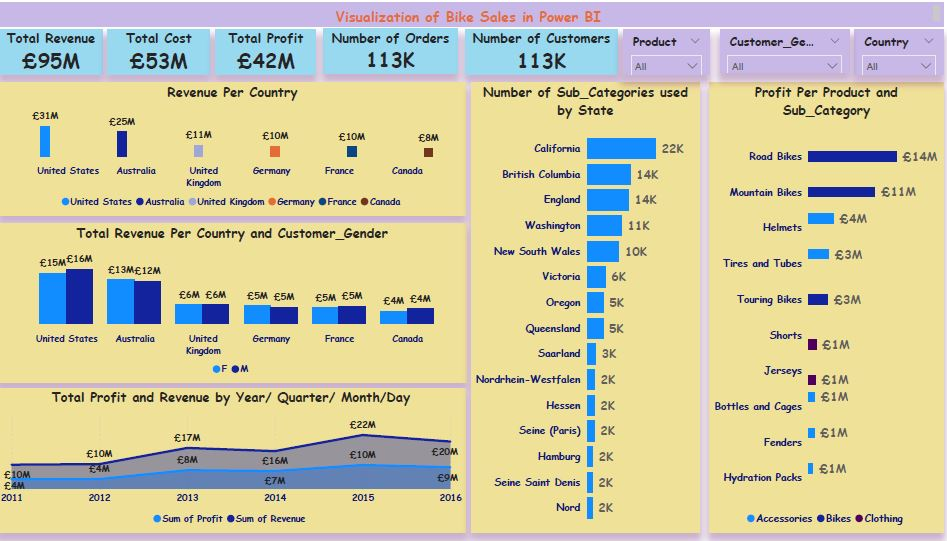

Layout of this report page (visuals, bound fields, positions):
{"tool":"powerbi","page":{"name":"Dashboard","canvas":[1280,720],"ordinal":0},"visuals":[{"type":"card","title":"Total  Revenue","fields":{"Values":["Sum(Sales-230810-192758.Revenue)"]},"box":[14.4,36,136.8,60.5],"z":0},{"type":"card","title":"Number of Orders","fields":{"Values":["CountNonNull(Sales-230810-192758.Order_Quantity)"]},"box":[445,34.6,178.6,60.5],"z":1000},{"type":"card","title":"Number of Customers","fields":{"Values":["CountNonNull(Sales-230810-192758.Customer_Gender)"]},"box":[633.6,36,203,60.5],"z":2000},{"type":"card","title":"Total Cost","fields":{"Values":["Sum(Sales-230810-192758.Cost)"]},"box":[158.4,36,135.4,60.5],"z":3000},{"type":"card","title":"Total Profit","fields":{"Values":["Sum(Sales-230810-192758.Profit)"]},"box":[302.4,36,132.5,60.5],"z":4000},{"type":"clusteredColumnChart","title":"Revenue Per Country","fields":{"Y":["Sum(Sales-230810-192758.Revenue)"],"Category":["Sales-230810-192758.Country"],"Series":["Sales-230810-192758.Country"]},"box":[14.4,106.6,619.2,177.1],"z":5000},{"type":"clusteredColumnChart","title":"Total Revenue Per Country and Customer_Gender","fields":{"Y":["Sum(Sales-230810-192758.Revenue)"],"Category":["Sales-230810-192758.Country"],"Series":["Sales-230810-192758.Customer_Gender"]},"box":[11.5,295.2,623.5,211.7],"z":6000},{"type":"clusteredBarChart","title":"Profit Per Product and Sub_Category ","fields":{"Category":["Sales-230810-192758.Product_Category","Sales-230810-192758.Sub_Category"],"Y":["Sum(Sales-230810-192758.Profit)"],"Series":["Sales-230810-192758.Product_Category"]},"box":[959,106.6,311,599],"z":7000},{"type":"areaChart","title":"Total Profit and Revenue by Year/ Quarter/ Month/Day","fields":{"Category":["Sales-230810-192758.Date.Variation.Date Hierarchy.Year","Sales-230810-192758.Date.Variation.Date Hierarchy.Quarter","Sales-230810-192758.Date.Variation.Date Hierarchy.Month","Sales-230810-192758.Date.Variation.Date Hierarchy.Day"],"Y":["Sum(Sales-230810-192758.Profit)","Sum(Sales-230810-192758.Revenue)"]},"box":[10.1,514.1,623.5,191.5],"z":8000},{"type":"clusteredBarChart","title":"Number of Sub_Categories used by State","fields":{"Category":["Sales-230810-192758.State"],"Y":["CountNonNull(Sales-230810-192758.Sub_Category)"]},"box":[642.2,106.6,303.8,599],"z":9000},{"type":"slicer","fields":{"Values":["Sales-230810-192758.Country"]},"box":[1152,36,118.1,60.5],"z":10000},{"type":"slicer","fields":{"Values":["Sales-230810-192758.Customer_Gender"]},"box":[973.4,36,171.4,57.6],"z":11000},{"type":"slicer","fields":{"Values":["Sales-230810-192758.Product"]},"box":[843.8,36,115.2,60.5],"z":12000},{"type":"textbox","box":[14.4,0,1255.7,31.7],"z":13000}]}

Visuals, with their boxes in screenshot pixels (x1, y1, x2, y2), scaled from the page's 1280x720 canvas onto the 947x541 screenshot:
"Total  Revenue" card: left=11, top=27, right=112, bottom=73
"Number of Orders" card: left=329, top=26, right=461, bottom=71
"Number of Customers" card: left=469, top=27, right=619, bottom=73
"Total Cost" card: left=117, top=27, right=217, bottom=73
"Total Profit" card: left=224, top=27, right=322, bottom=73
"Revenue Per Country" clusteredColumnChart: left=11, top=80, right=469, bottom=213
"Total Revenue Per Country and Customer_Gender" clusteredColumnChart: left=9, top=222, right=470, bottom=381
"Profit Per Product and Sub_Category " clusteredBarChart: left=710, top=80, right=940, bottom=530
"Total Profit and Revenue by Year/ Quarter/ Month/Day" areaChart: left=7, top=386, right=469, bottom=530
"Number of Sub_Categories used by State" clusteredBarChart: left=475, top=80, right=700, bottom=530
slicer - Sales-230810-192758.Country: left=852, top=27, right=940, bottom=73
slicer - Sales-230810-192758.Customer_Gender: left=720, top=27, right=847, bottom=70
slicer - Sales-230810-192758.Product: left=624, top=27, right=710, bottom=73
textbox: left=11, top=0, right=940, bottom=24
